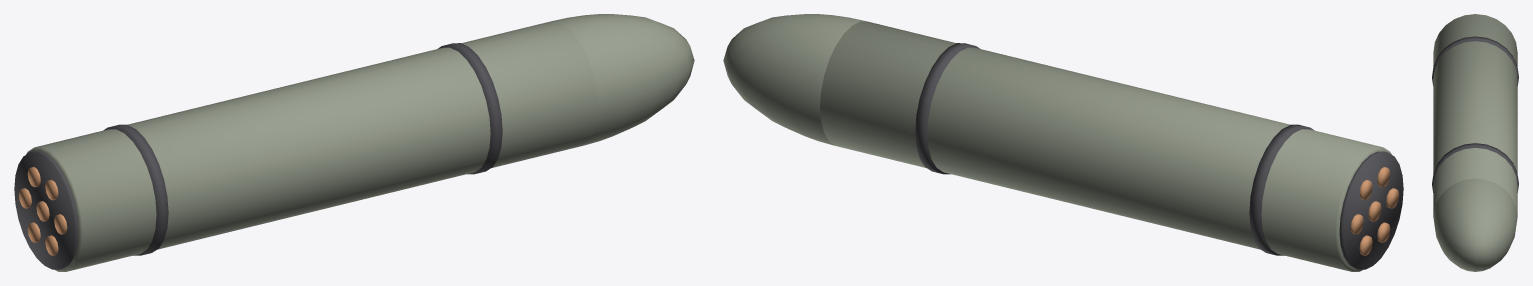
File: flares_3.glb
The picture shows the model from 3 angles, left to right: view 1: azimuth 30°, elevation 25°; view 2: azimuth 150°, elevation 25°; view 3: azimuth 270°, elevation 25°; orthographic projection. The views are drawn at different scales.
Parts seen in each view (by area): view 1: flares_3; view 2: flares_3; view 3: flares_3.
Boxes of the visible parts, x1=… form: flares_3: x1=14, y1=14, x2=694, y2=271; flares_3: x1=723, y1=14, x2=1403, y2=271; flares_3: x1=1432, y1=14, x2=1518, y2=271.
Bounding box in the file's own units: 0.874 × 0.1545 × 0.1545.
